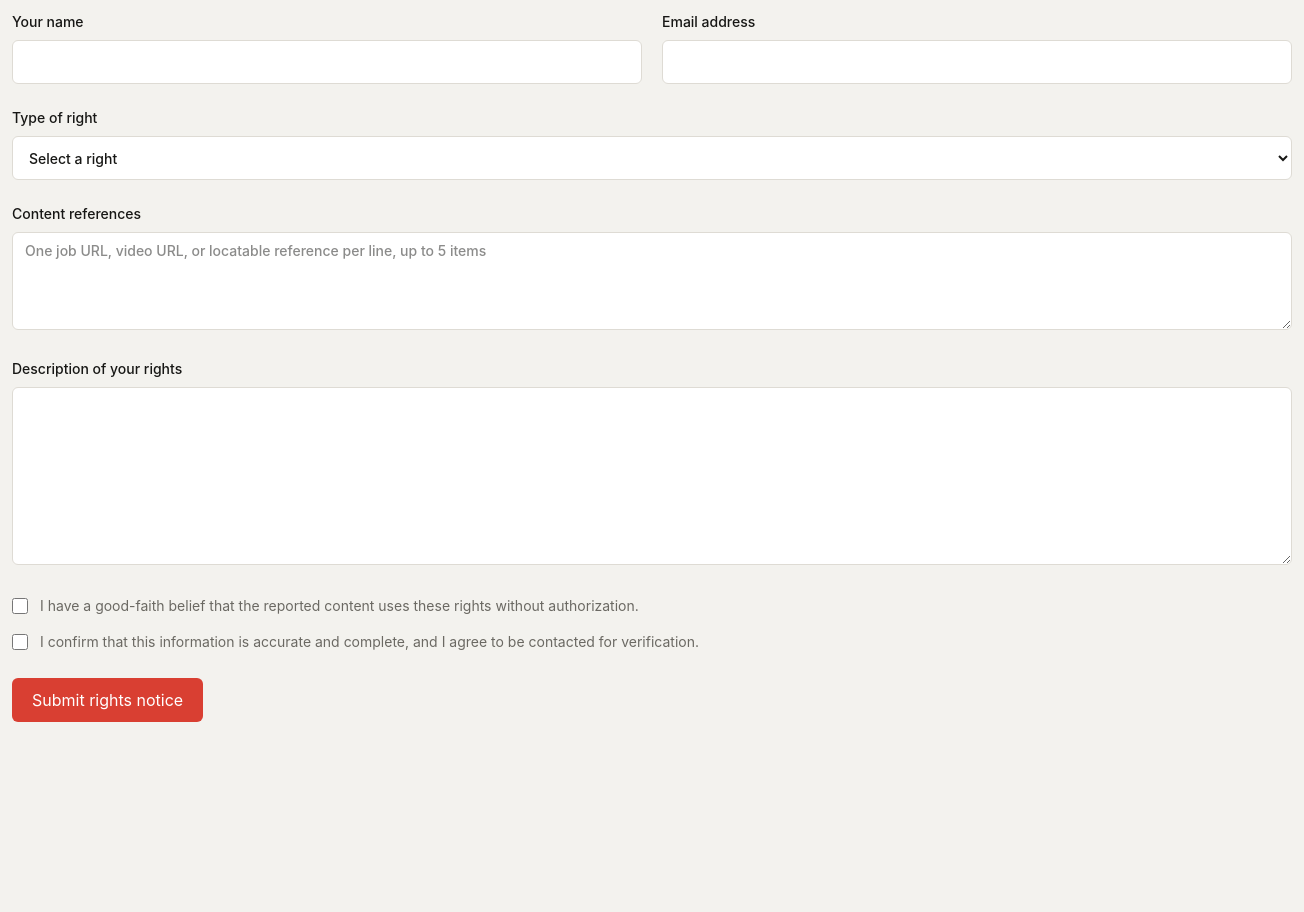
Test: TakedownForm › submits a rights notice and shows only its public reference
The width and height of the screenshot is (1304, 912).
Type "Rights holder" into the field labelled "Your name". click: (327, 62)
box: [12,40,642,84]
Type "owner@example.com" into the field labelled "Email address". click: (977, 62)
box: [662,40,1292,84]
Select "Likeness" in the dropdown labelled "Type of right". click: (652, 158)
box: [12,136,1292,180]
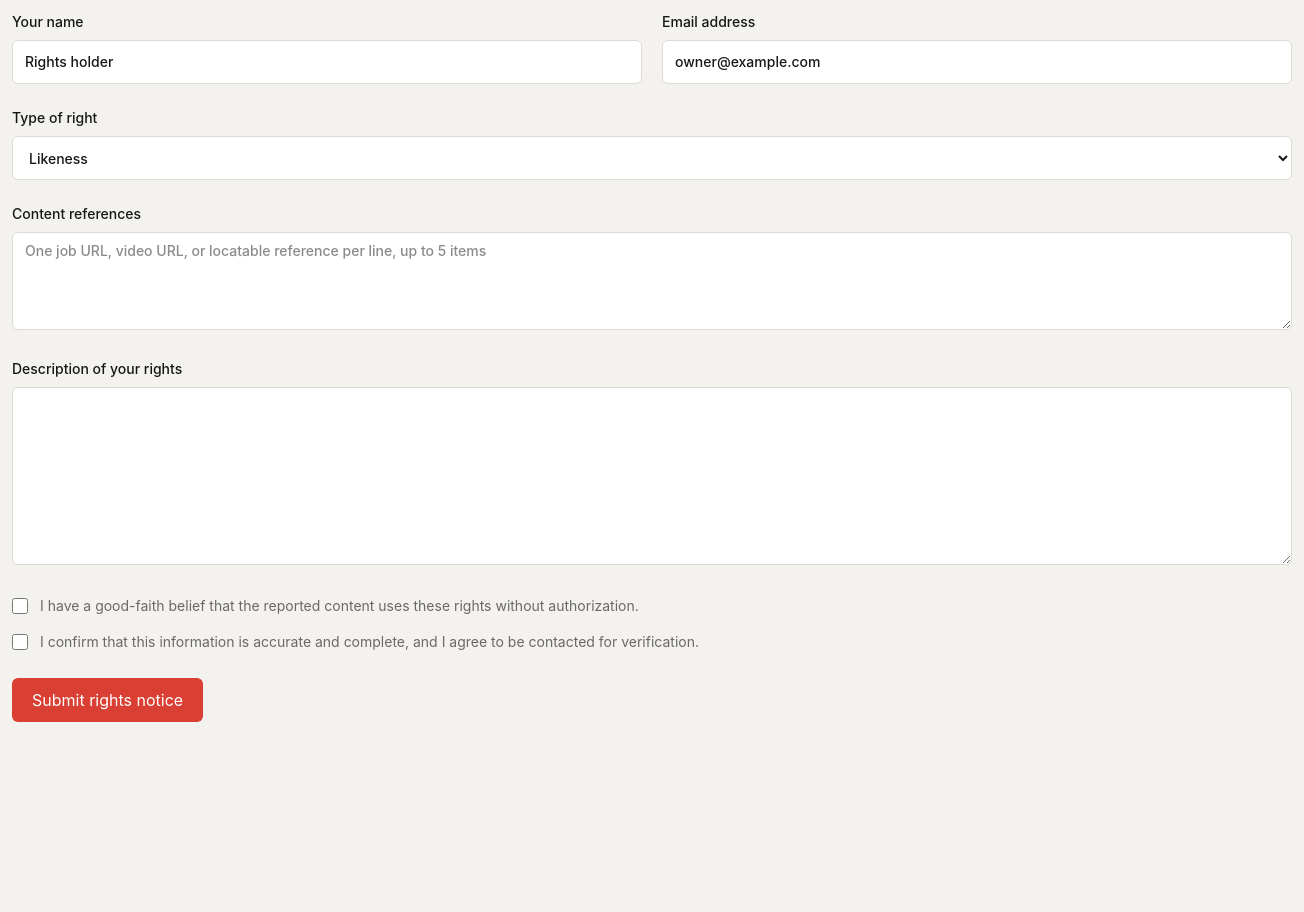
Replace the text in the text box labelled "Content references" with "https://app.example/jobs/job-1". click: (652, 281)
box: [12,232,1292,330]
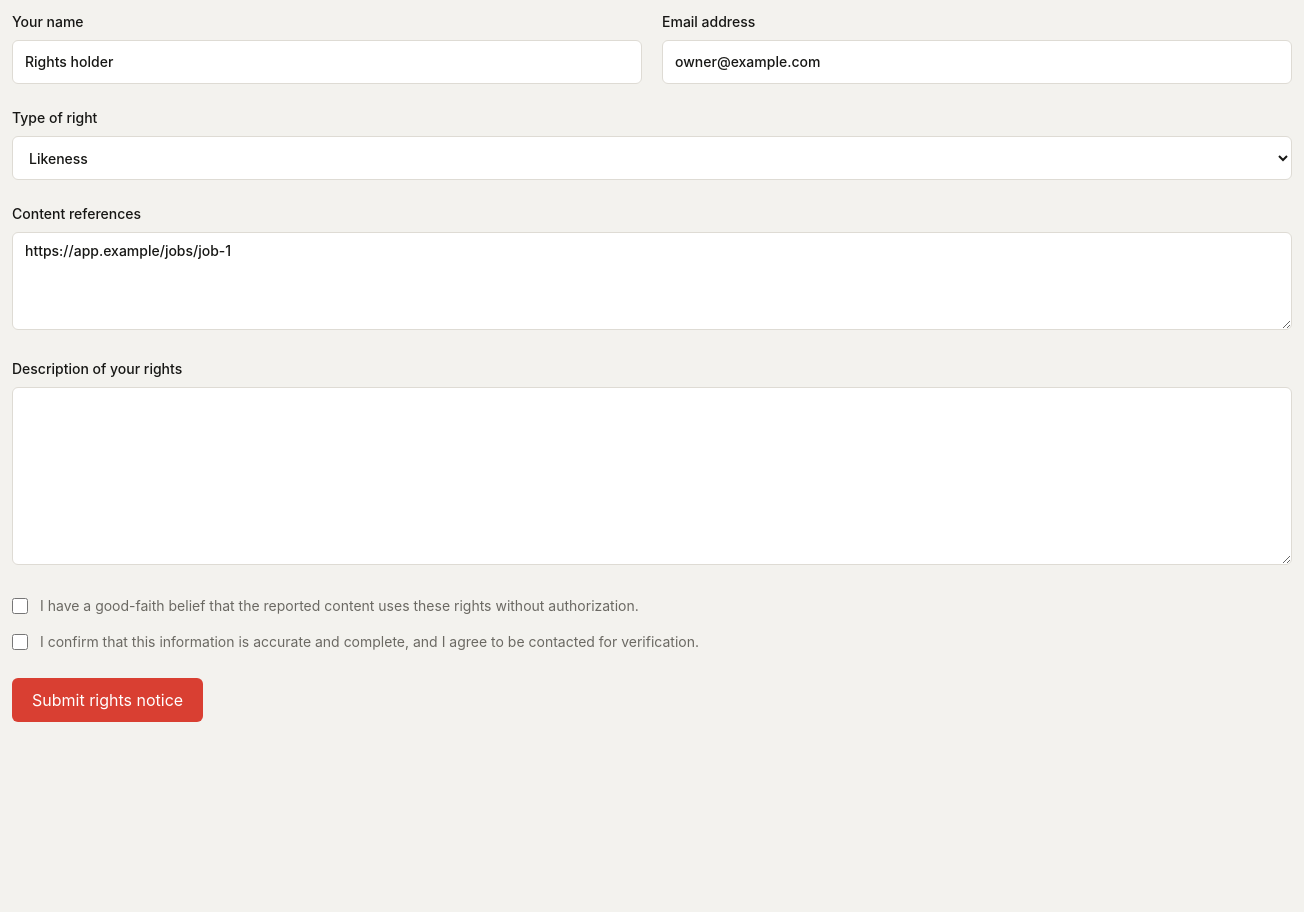
Type "I am the authorized rights holder. This content uses the person's likeness without permission. Please review and process this notice." into the text box labelled "Description of your rights". click: (652, 476)
box: [12,387,1292,565]
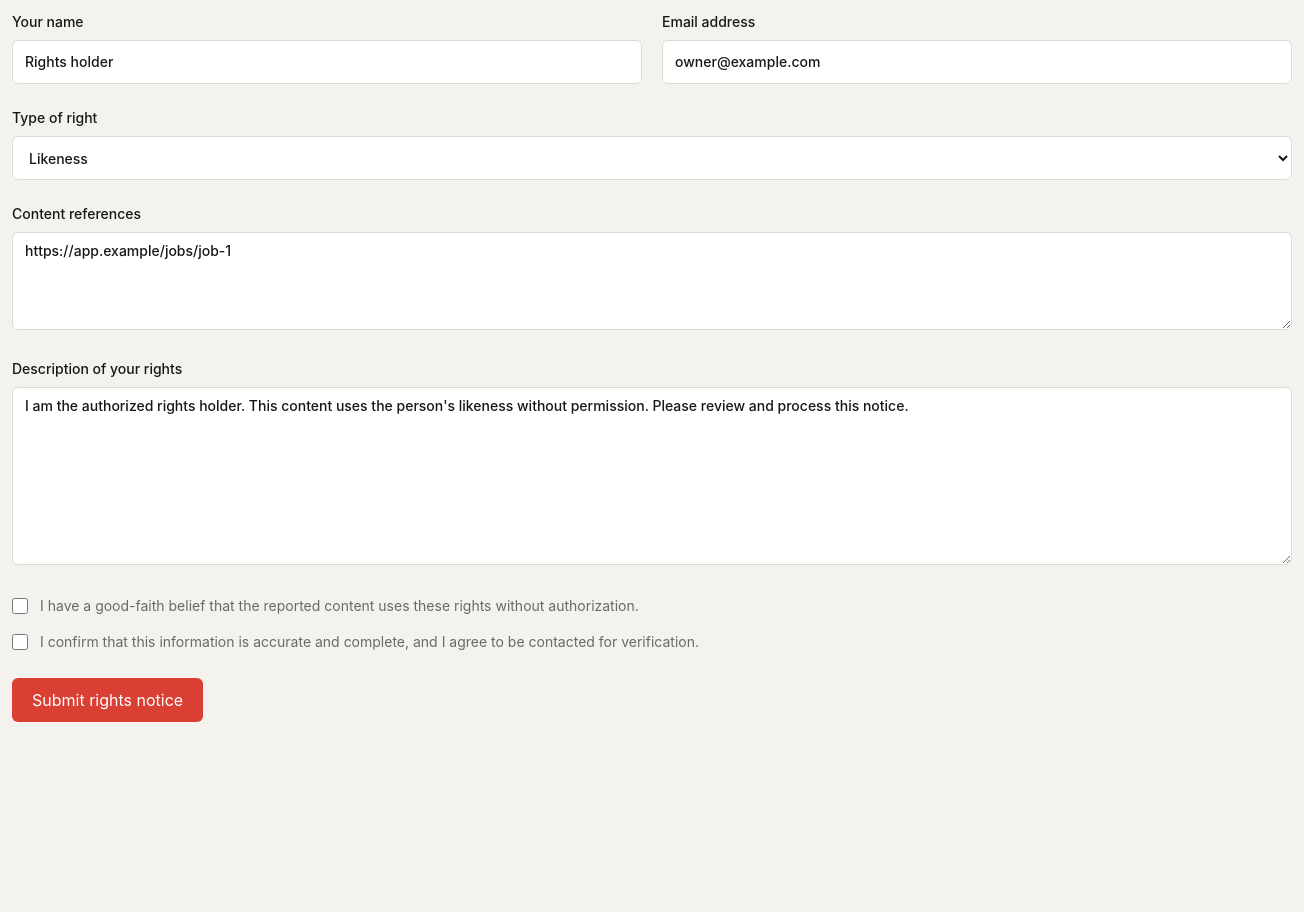
Click the checkbox labelled "good-faith belief". click: (20, 606)
box: [12,598,28,614]
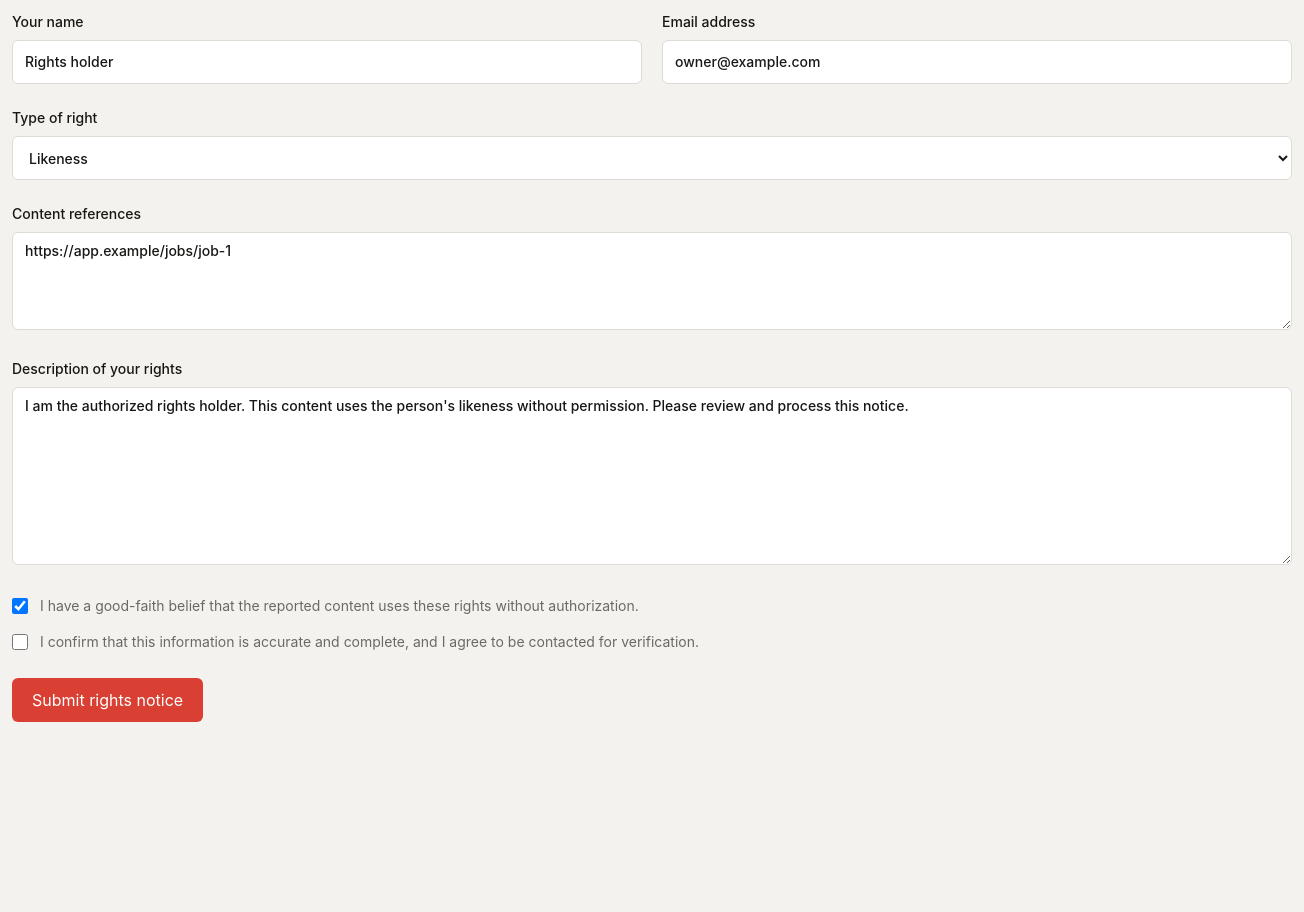
Click the checkbox labelled "accurate and complete". click: (20, 642)
box: [12,634,28,650]
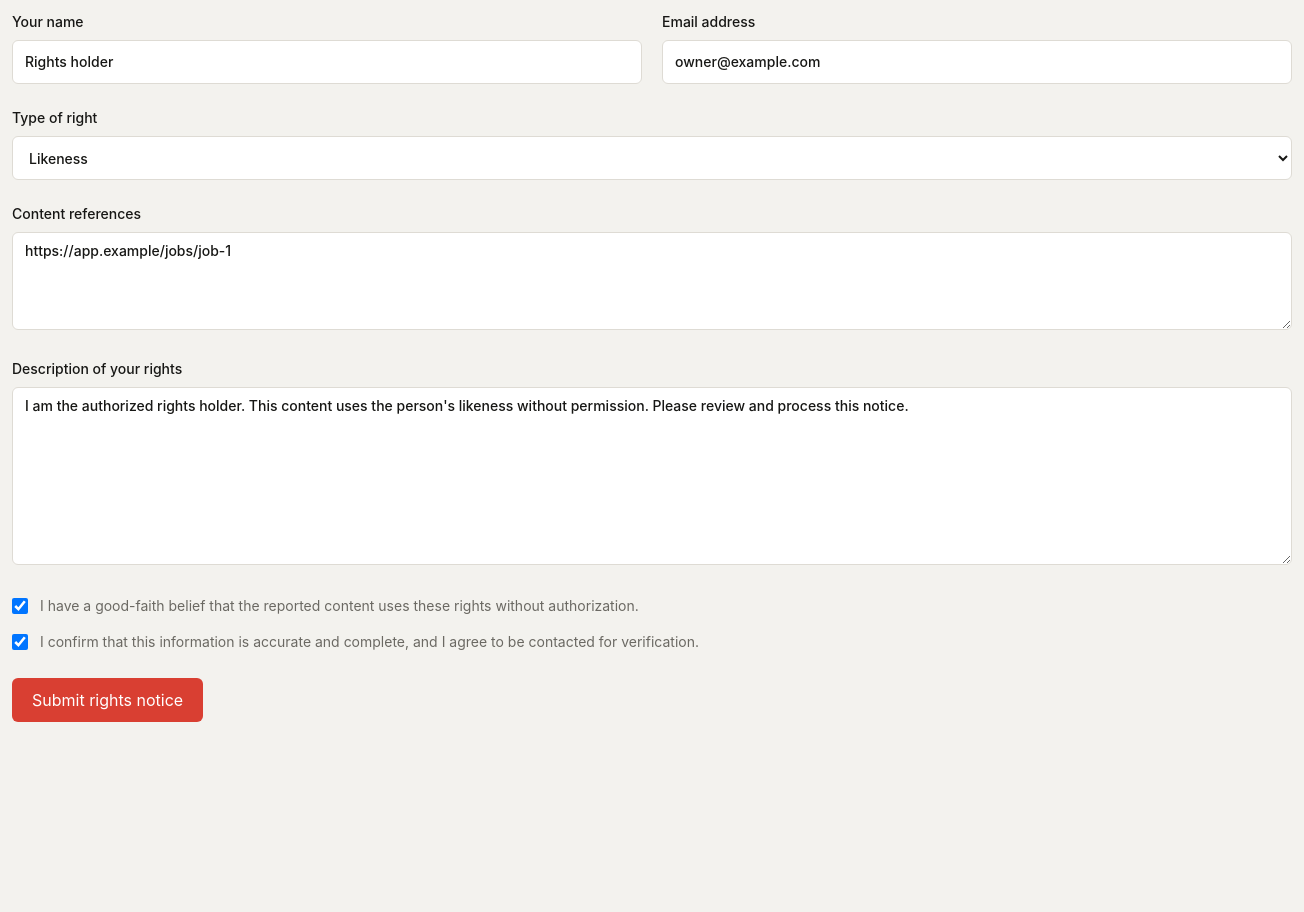
Click the button "Submit rights notice". click: (108, 700)
box: [12,678,203,722]
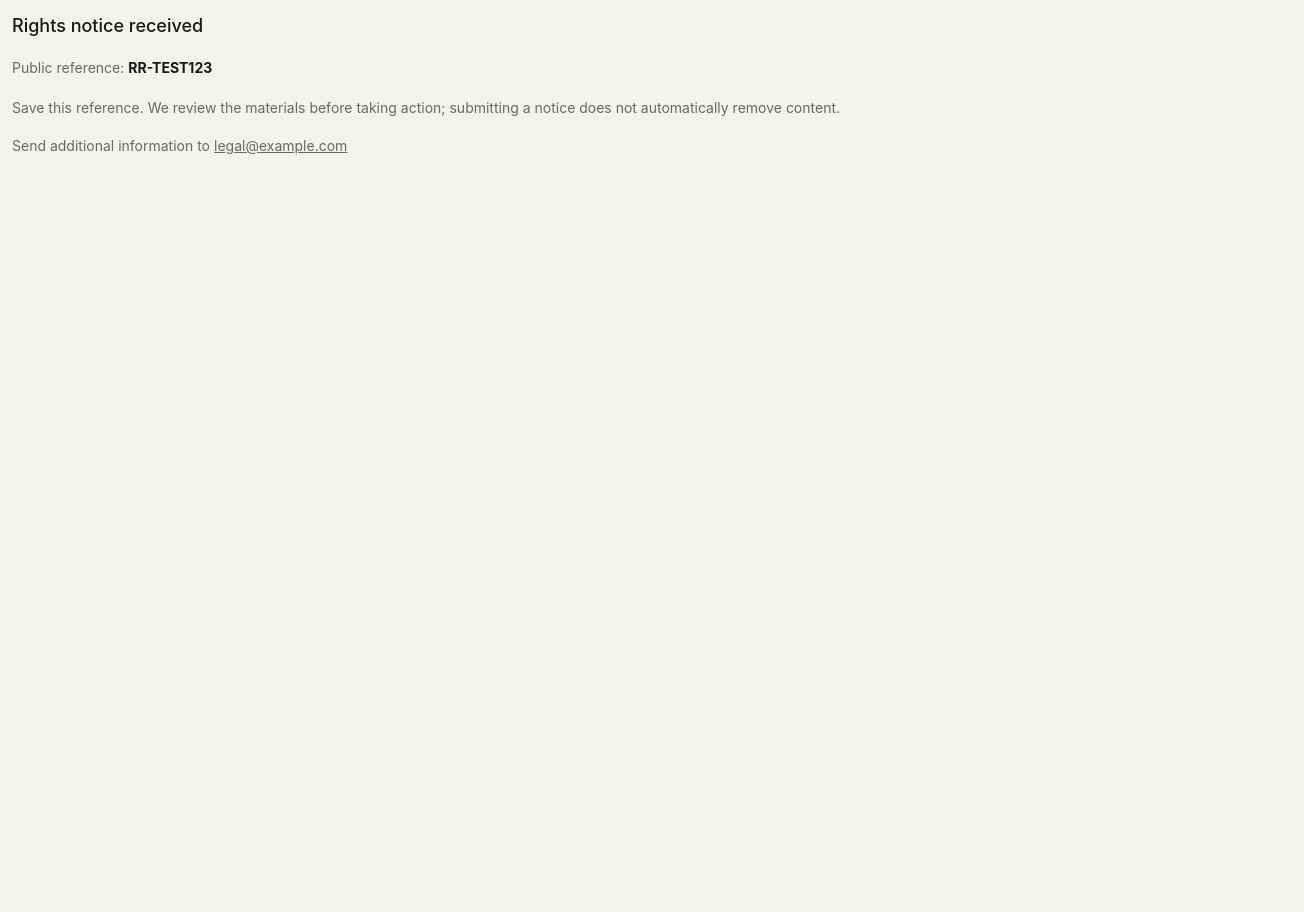
expect the text "owner@example.com" is not shown: met
expect the text "RR-TEST123" is shown: met, box [128,59,212,76]
